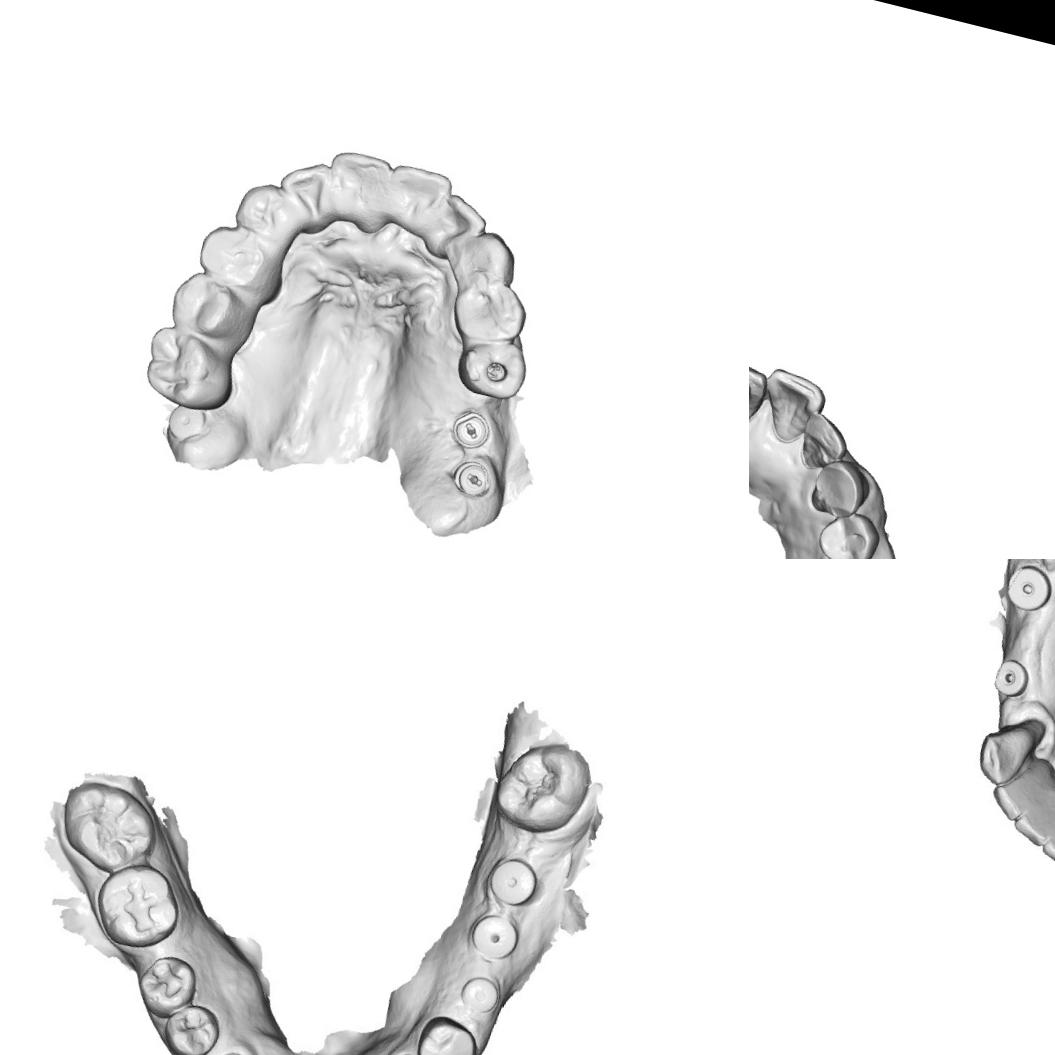canine: (445, 222, 524, 296), (970, 712, 1040, 793), (228, 174, 300, 244), (804, 452, 874, 522)
implant: (482, 852, 548, 915), (464, 903, 526, 968), (984, 650, 1044, 706), (450, 967, 510, 1021), (1002, 559, 1054, 614), (162, 400, 209, 446)
implant_minus: (446, 404, 495, 454), (448, 456, 496, 503)
incisor: (315, 143, 395, 231), (752, 364, 830, 450), (378, 158, 456, 240), (420, 188, 492, 268), (269, 152, 340, 230), (793, 408, 854, 474), (990, 771, 1053, 828), (1013, 791, 1055, 846), (749, 351, 772, 434), (1040, 820, 1055, 872)
molar: (484, 732, 602, 848), (46, 772, 166, 881), (84, 854, 191, 959), (134, 322, 244, 418)
premolar: (162, 264, 261, 347), (444, 269, 535, 352), (192, 219, 280, 294), (450, 328, 534, 405), (129, 945, 201, 1023), (812, 502, 885, 559), (156, 995, 224, 1055), (409, 1010, 481, 1055)
